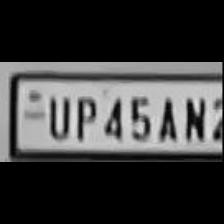4: (97, 92, 125, 140)
5: (124, 91, 152, 142)
A: (153, 91, 179, 142)
N: (178, 92, 208, 140)
P: (69, 92, 97, 140)
U: (43, 90, 71, 140)
